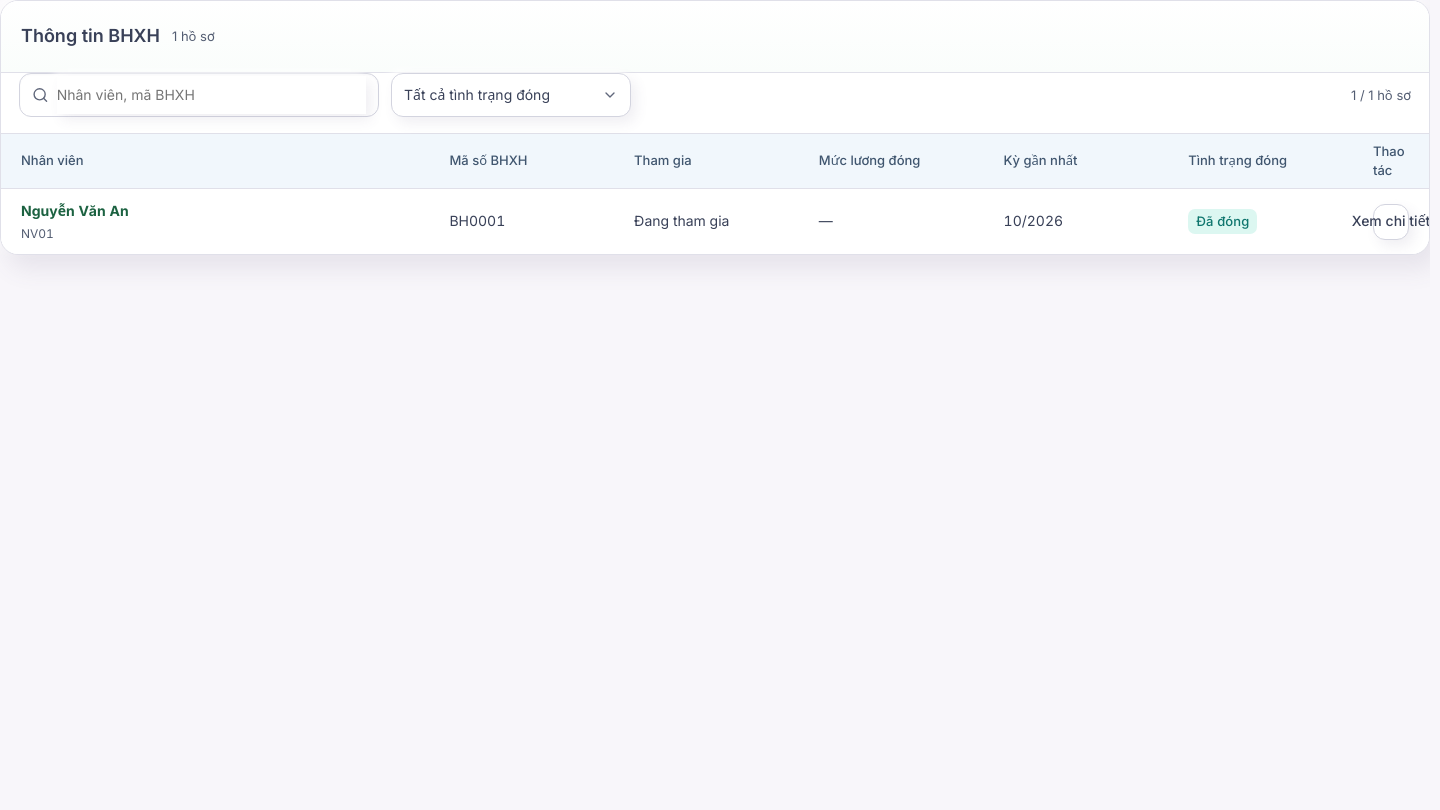
insurance history UI › shows actual period/status/amount/actor and authorized private document link
What coordinates should you click on to do the following:
click the button with aria-label "Xem chi tiết BHXH Nguyễn Văn An"
I would click on:
 (1391, 222)
Its box is x1=1373 y1=204 x2=1409 y2=240.
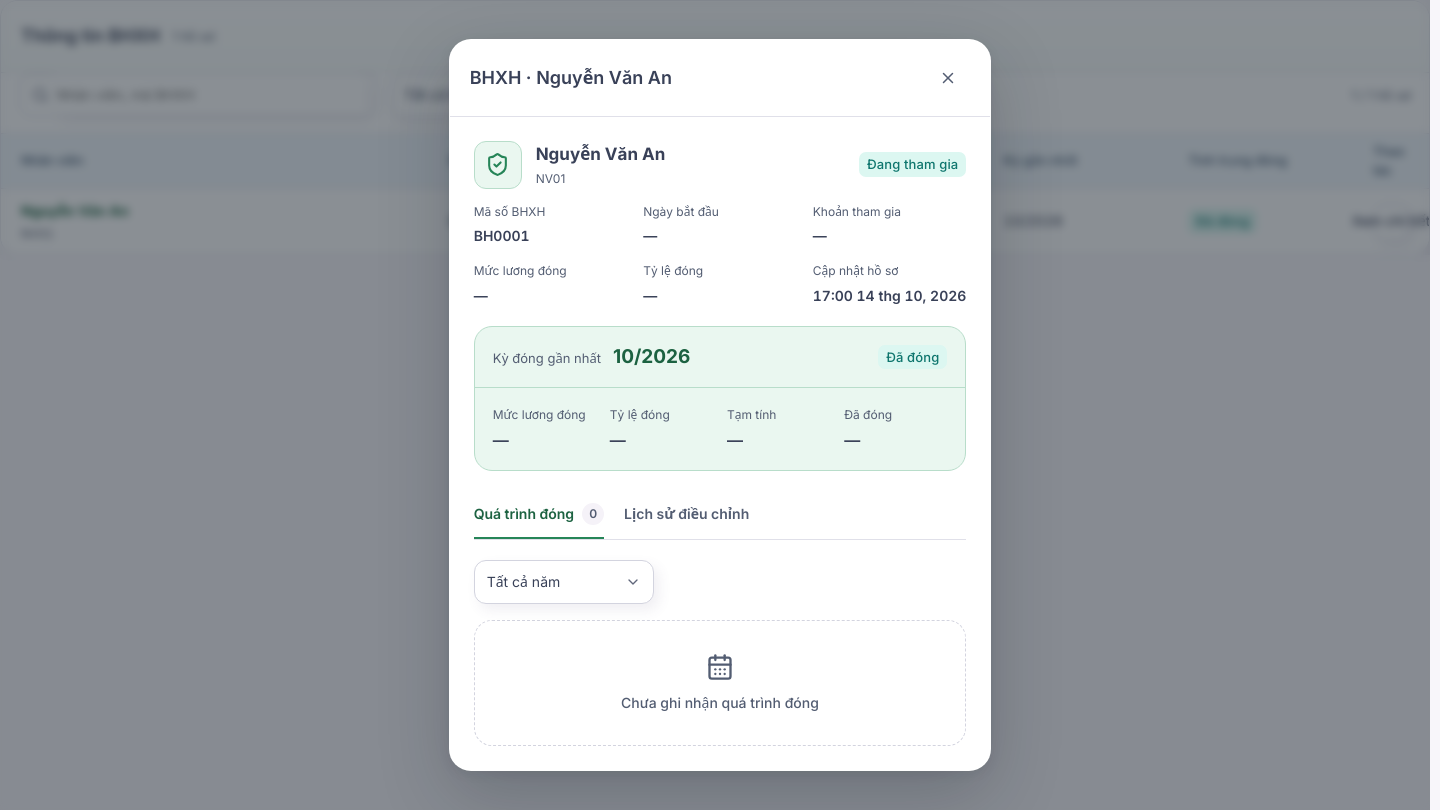
What coordinates should you click on to do the following:
click the tab "Lịch sử điều chỉnh"
I would click on:
 (687, 515)
Its box is x1=624 y1=491 x2=749 y2=539.
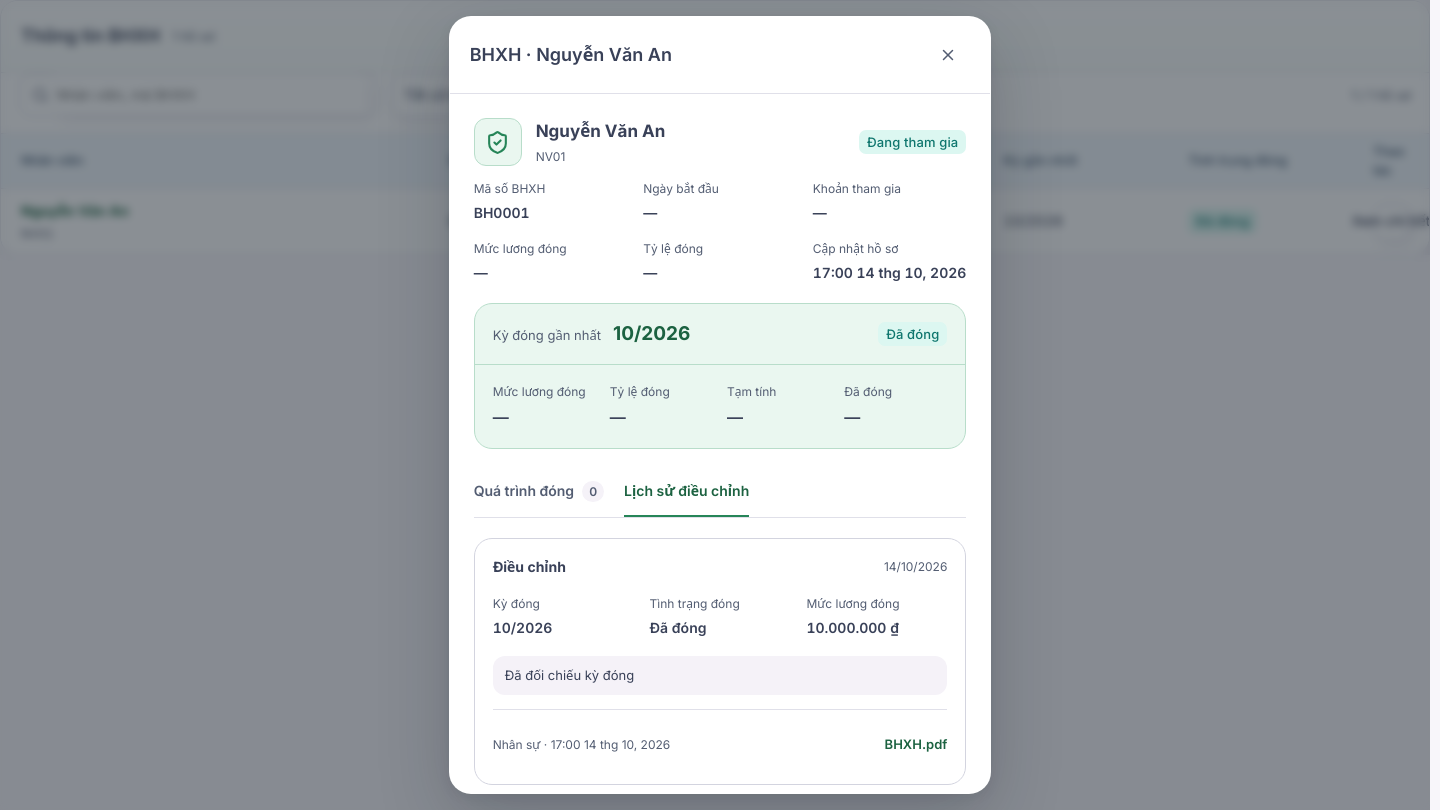
Check: the dialog shows "Đã đóng", box x1=886 y1=326 x2=939 y2=342
Check: the dialog shows "10.000.000", box x1=806 y1=619 x2=899 y2=636
Check: the dialog shows "Đã đối chiếu kỳ đóng", box x1=505 y1=668 x2=634 y2=684
